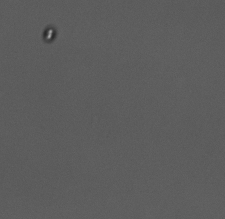Living Cell: (42, 25, 57, 44)
